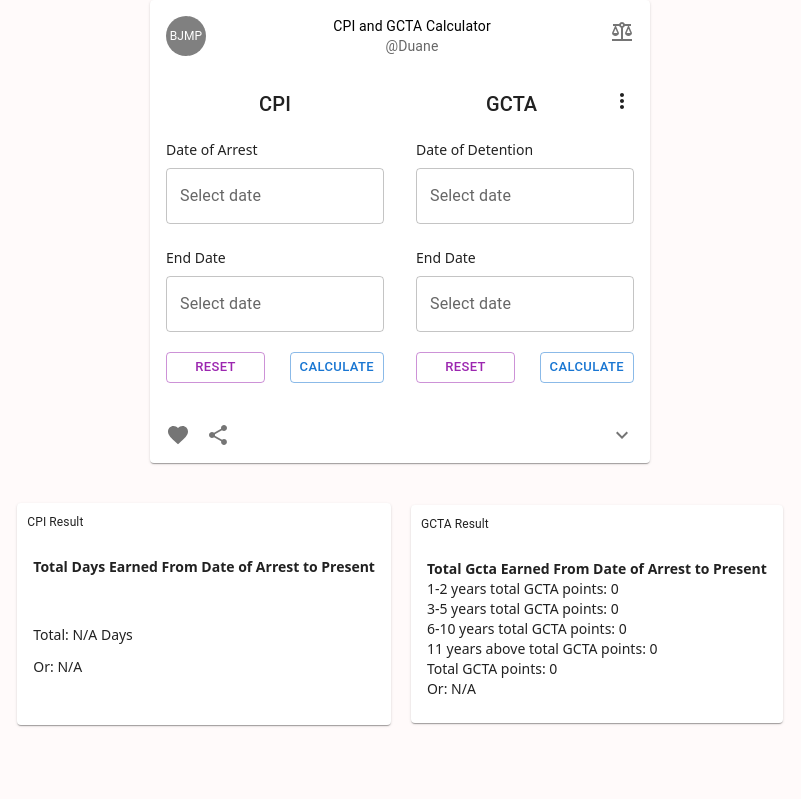
GctaCalculator › expands additional information when clicked
Click the button named "show more" at coordinates (622, 435), box [602, 415, 642, 455]
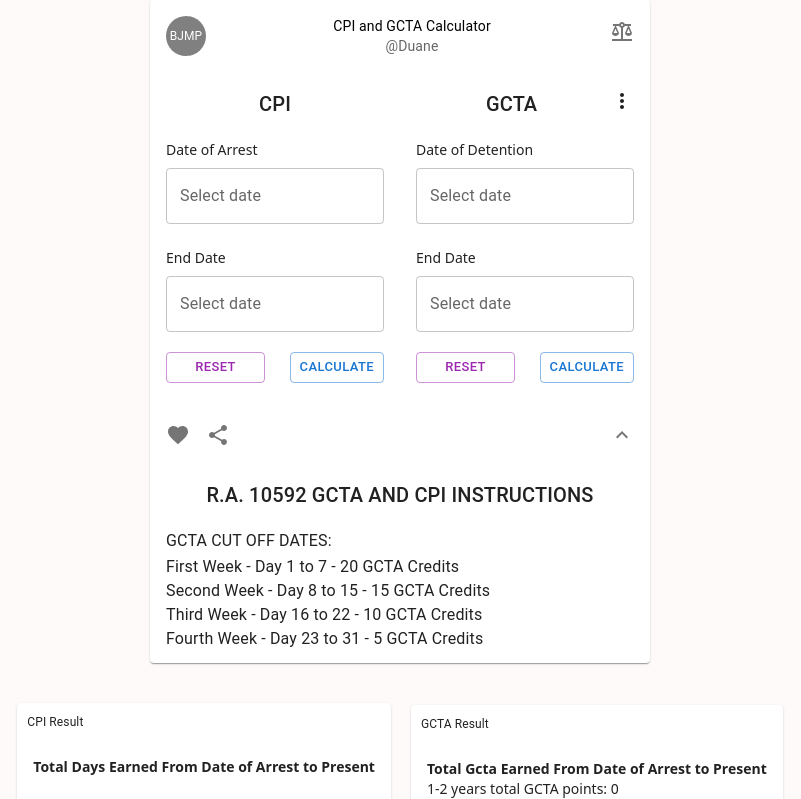
Result: the heading "R.A. 10592 GCTA AND CPI INSTRUCTIONS" is shown at [206, 483, 594, 507]
